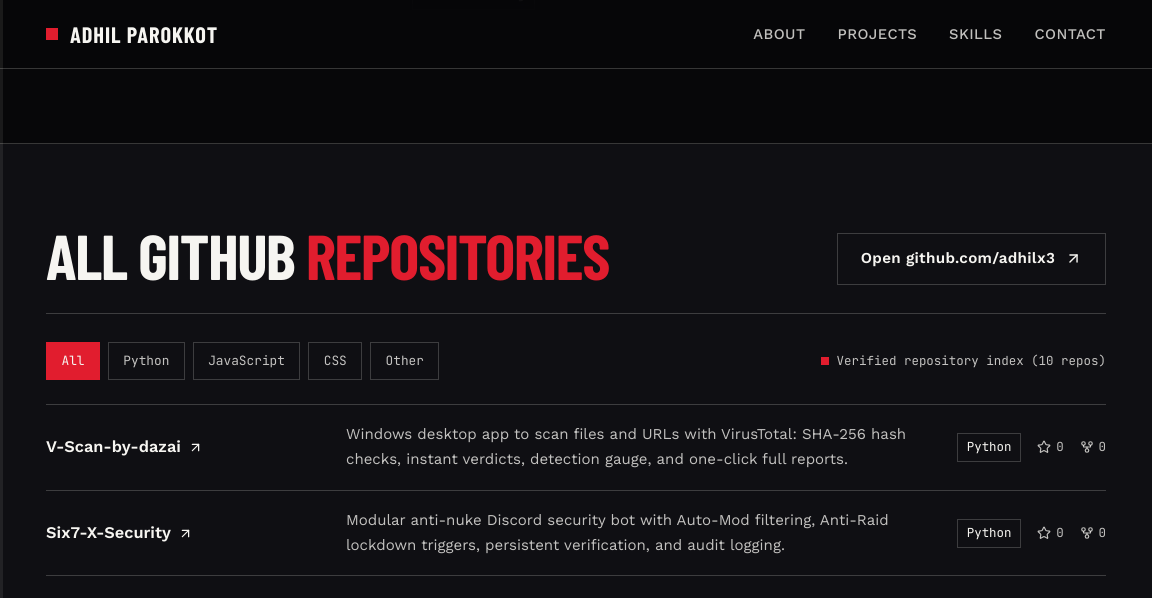
Test: Adhil Parokkot Portfolio App › filters GitHub repositories by language accurately
The image size is (1152, 598).
(page scrolled)
Check: the link "V-Scan-by-dazai" is shown, box [46, 434, 203, 461]
Click the button "JavaScript": (247, 361) [193, 342, 300, 380]
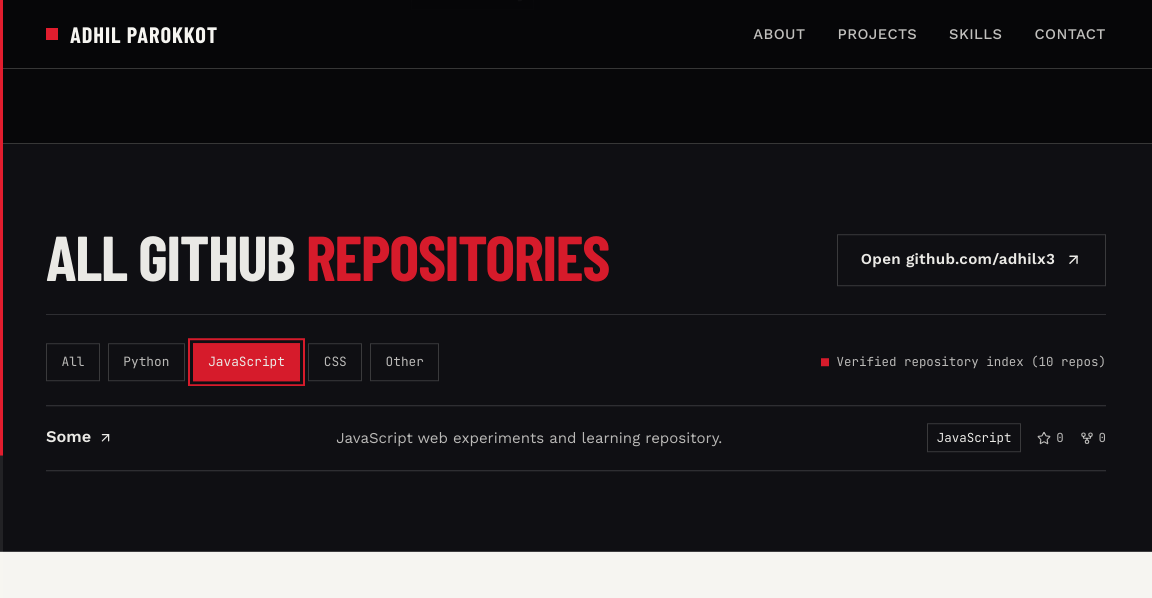
Check: the link "Some" is shown, box [46, 425, 113, 452]
Check: the link "V-Scan-by-dazai" is gone
Click the button "All": (73, 362) [46, 343, 100, 381]
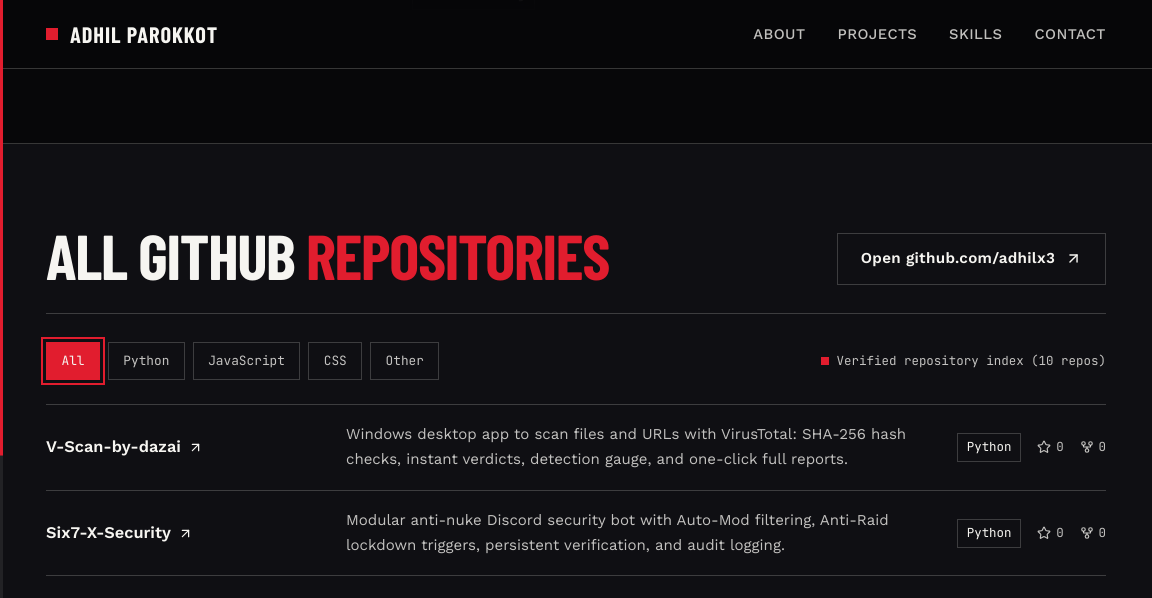
Check: the link "V-Scan-by-dazai" is shown, box [46, 434, 203, 461]
